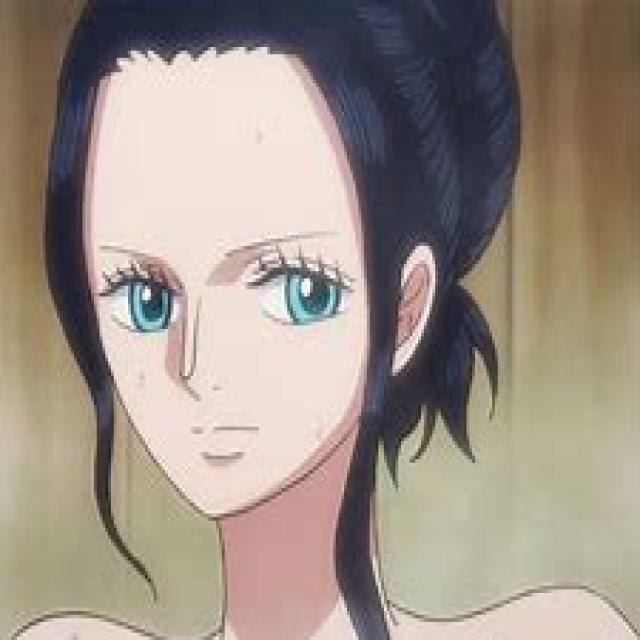Robin: (46, 0, 640, 640)
